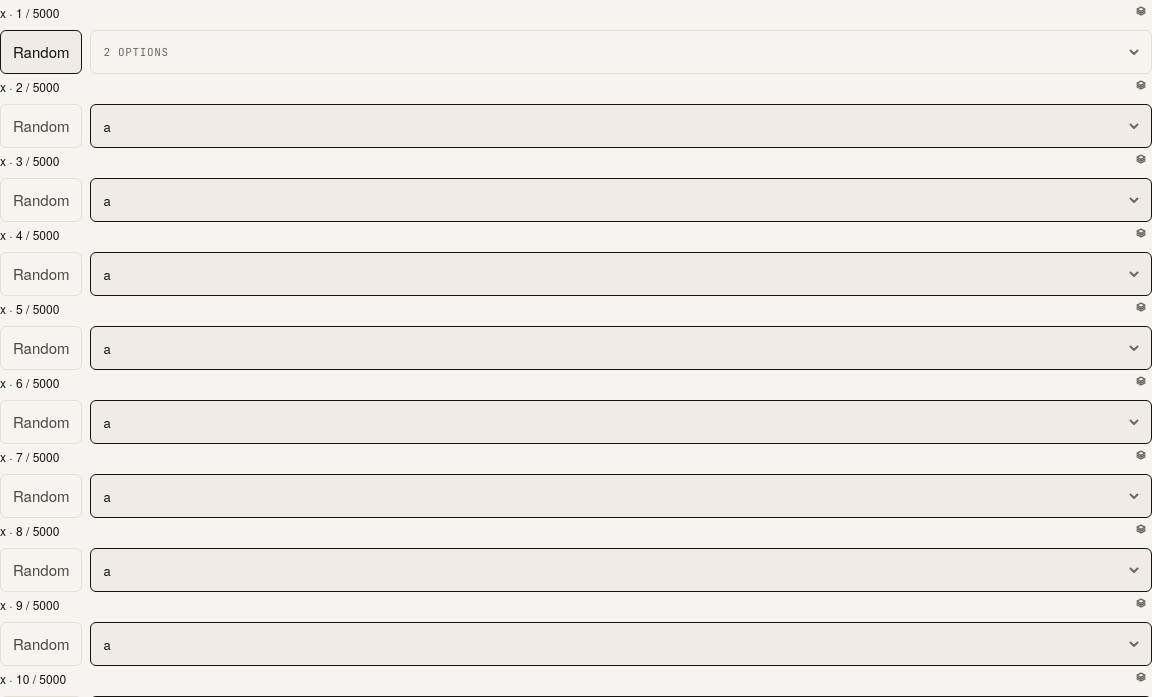
AxisRow › closed rows show the option count and pinned label without walking a large pin record
The image size is (1152, 697).
Click the button "2 options". click: x=136, y=52
box: [90,30,1151,74]
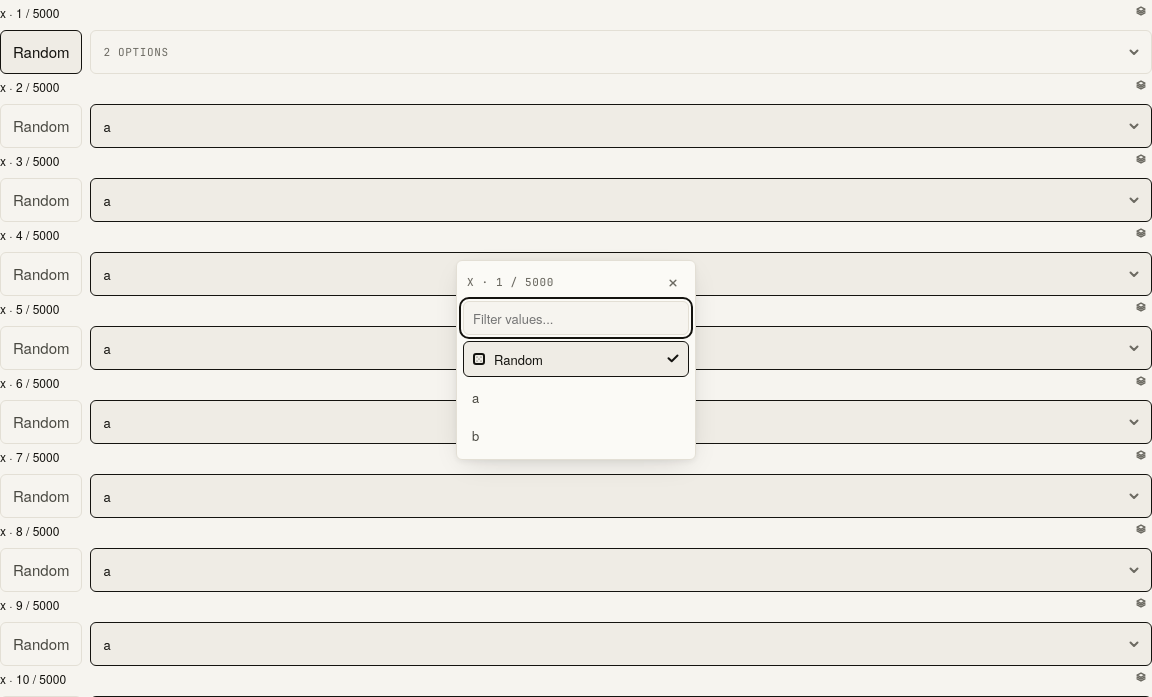
Expected: the 3rd button "a" is enabled, [463,379,689,415]
Expected: the button "b" is enabled, [463,417,689,453]
